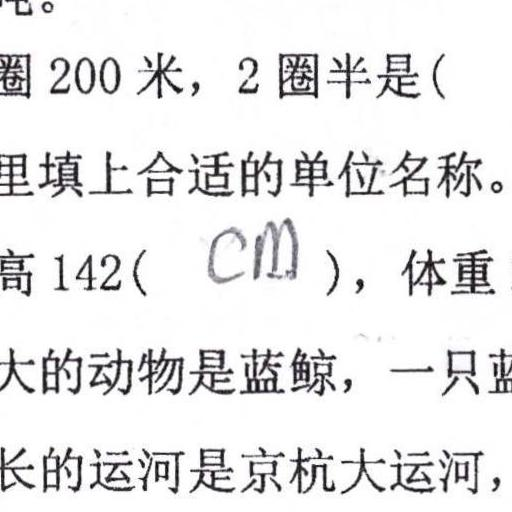ans: (201, 213, 301, 286)
